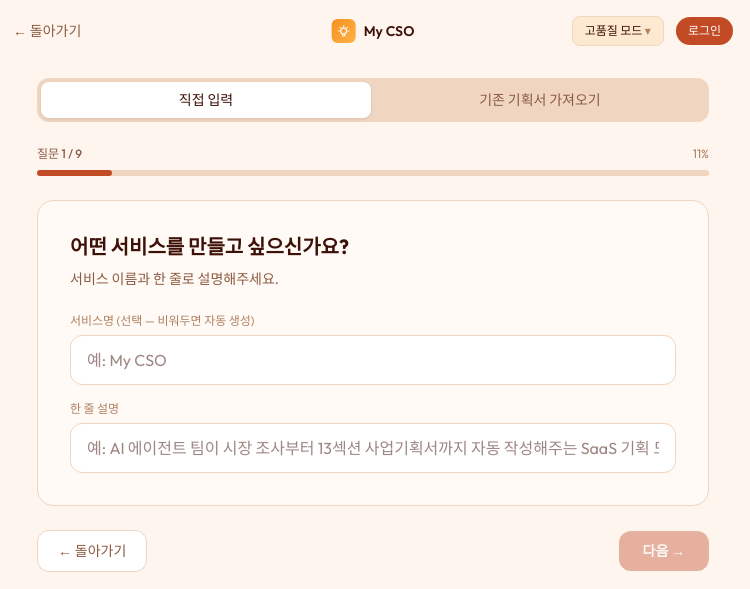
Test case: Guided Page Integration › can switch back to wizard mode from import
This screenshot has width=750, height=589.
Click the button "기존 기획서 가져오기".
click(540, 100)  # box [375,82,705,118]
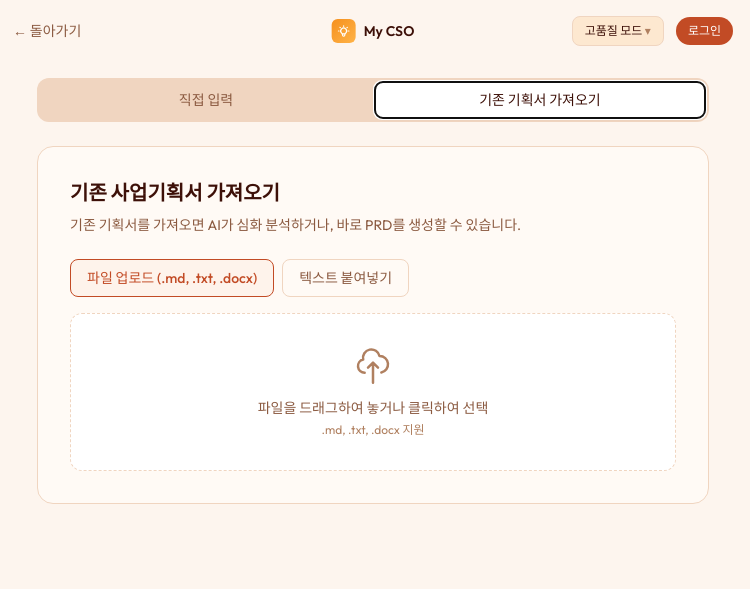
expect the heading "기존 사업기획서 가져오기" is shown: met, box [70,180,280,205]
Click the button "직접 입력".
click(206, 100)  # box [41,82,371,118]
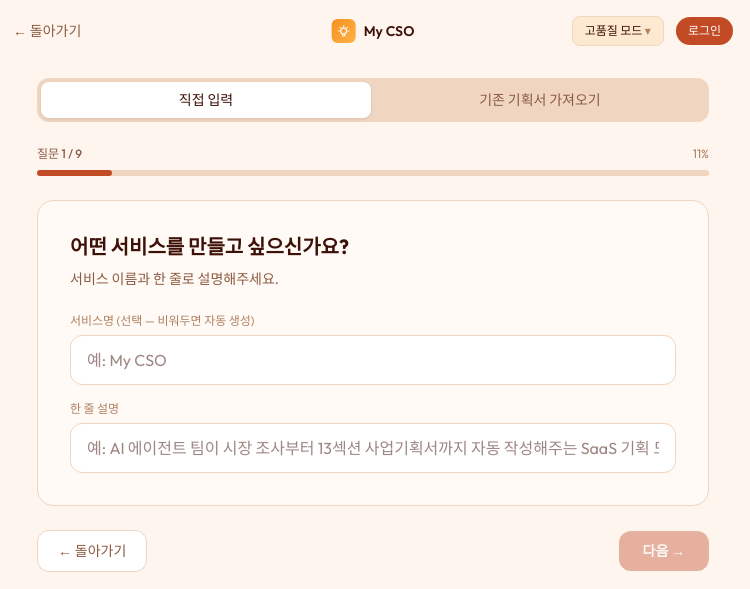
expect the heading "어떤 서비스를 만들고 싶으신가요?" is shown: met, box [70,234,349,259]
